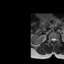CCS_normal: (53, 36, 54, 44)
LFS_normal: (56, 37, 57, 42)
LLS_normal: (54, 37, 56, 42)
RFS_normal: (50, 37, 51, 42)
RLS_normal: (51, 37, 53, 42)
